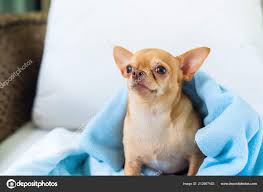chihuahua: (98, 30, 224, 175)
